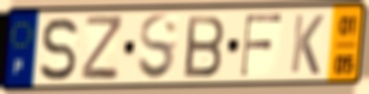B: (182, 14, 227, 80)
F: (238, 12, 285, 79)
K: (288, 12, 326, 77)
S: (136, 12, 180, 83), (38, 15, 81, 83)
Z: (79, 13, 125, 83)
